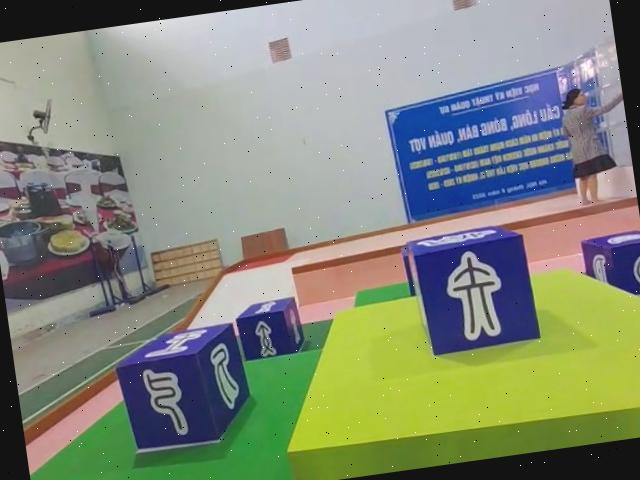R2 Fake Blue: (111, 324, 256, 460), (404, 224, 541, 363)
R2 Real Blue: (234, 296, 308, 364), (581, 230, 640, 304)
